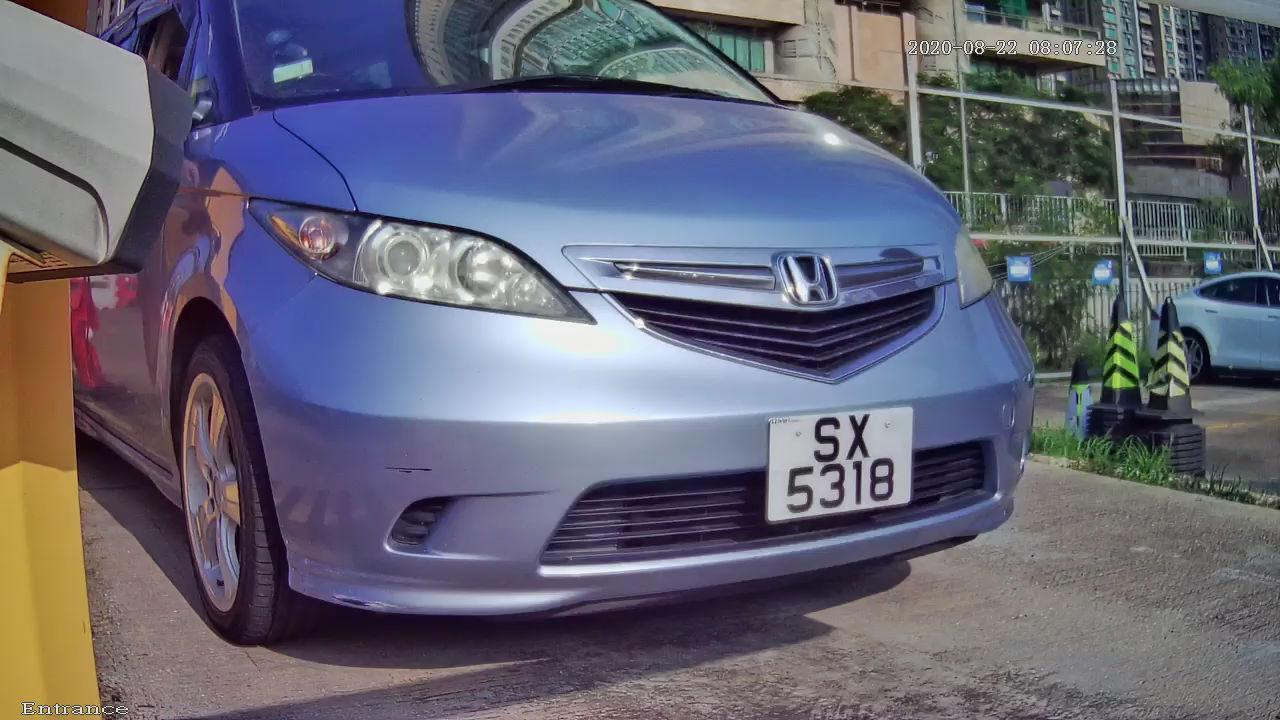Car: (41, 1, 1121, 669)
License Plate: (749, 393, 926, 534)
